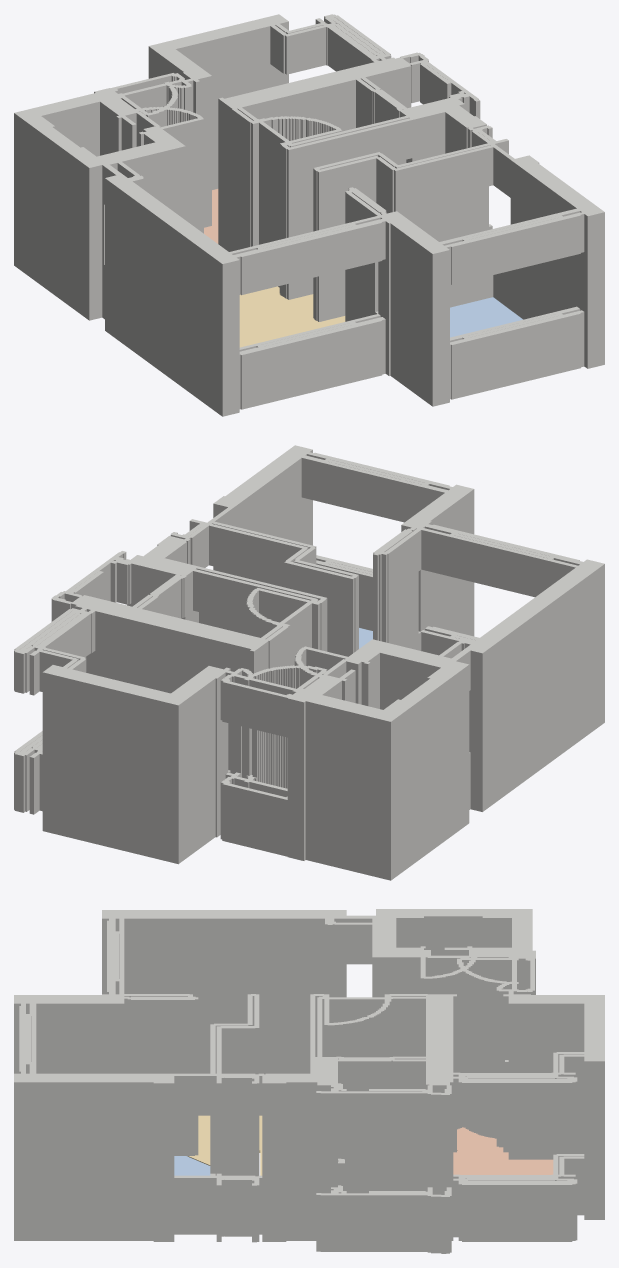
3 views of the same model, one above another, from view 1: azimuth 30°, elevation 25°; view 2: azimuth 150°, elevation 25°; view 3: azimuth 270°, elevation 25° (orthographic). The views are drawn at different scales.
Parts seen in each view (by area): view 1: walls, room:living:4, room:bedroom:5; view 2: walls; view 3: walls, room:kitchen:0, room:living:4, room:bedroom:5.
Part boxes in pixels (x1,y1,x2,y2): walls: (14,14,604,416); room:living:4: (239,286,345,347); room:bedroom:5: (450,297,522,337); walls: (14,445,604,880); walls: (14,909,604,1253); room:kitchen:0: (453,1127,553,1174); room:living:4: (188,1115,262,1175); room:bedroom:5: (174,1156,210,1175).
Bounding box in the file's own units: 7.04 × 2.8 × 9.45.
